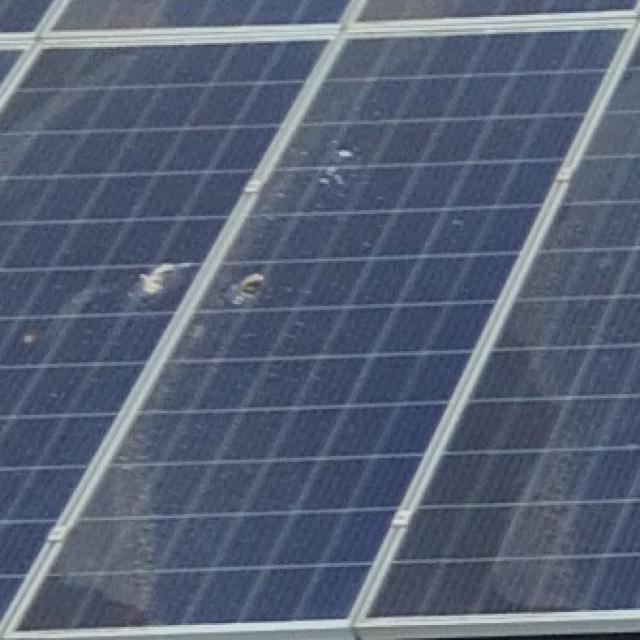Dust: (402, 331, 592, 640), (0, 431, 201, 640)
bird-droppings: (138, 253, 194, 295), (318, 144, 356, 192), (222, 272, 268, 308), (18, 320, 38, 352)
